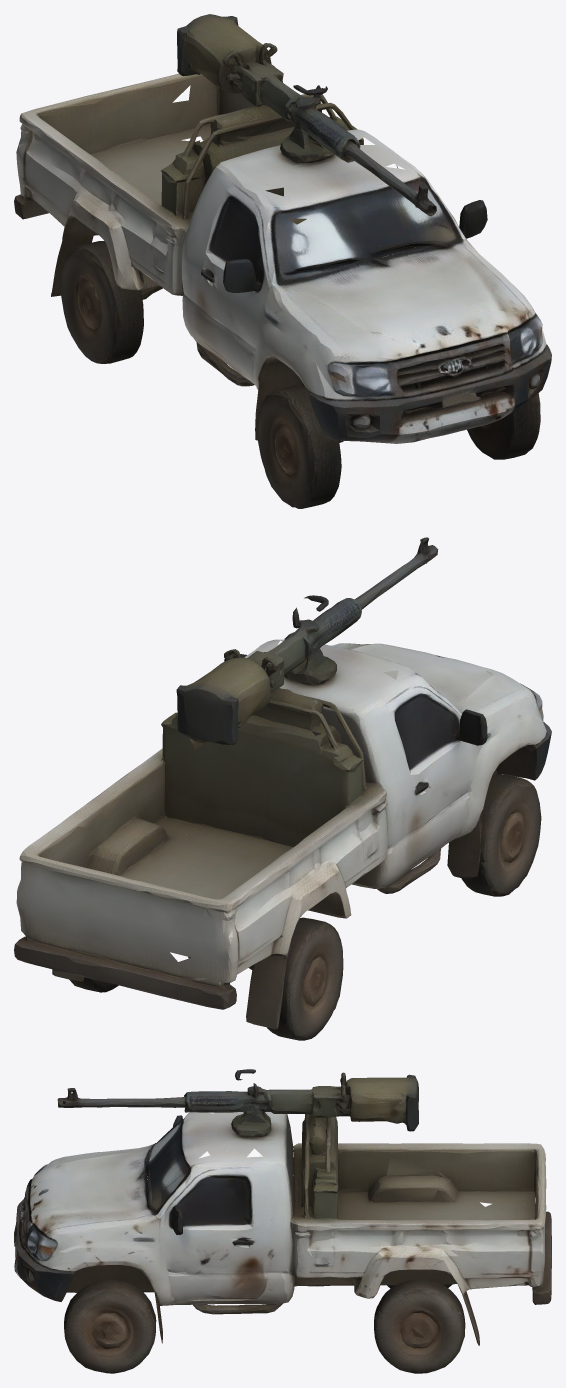
File: technical.glb
3 renders of one model, top to bottom at view 1: azimuth 30°, elevation 25°; view 2: azimuth 150°, elevation 25°; view 3: azimuth 270°, elevation 25°, orthographic. The views are drawn at different scales.
Parts seen in each view (by area): view 1: hull, gun, mount; view 2: hull, mount, gun; view 3: hull, gun, mount.
Part boxes in pixels (x1=…): hull: x1=14, y1=74, x2=551, y2=508; gun: x1=177, y1=14, x2=436, y2=262; mount: x1=61, y1=73, x2=433, y2=272; hull: x1=14, y1=639, x2=551, y2=1040; mount: x1=51, y1=750, x2=315, y2=972; gun: x1=176, y1=537, x2=438, y2=779; hull: x1=14, y1=1112, x2=551, y2=1373; gun: x1=57, y1=1069, x2=418, y2=1185; mount: x1=141, y1=1145, x2=546, y2=1232.
Bounding box in the file's own units: 2.35 × 2.81 × 5.3.
1 material, 1 textured.
